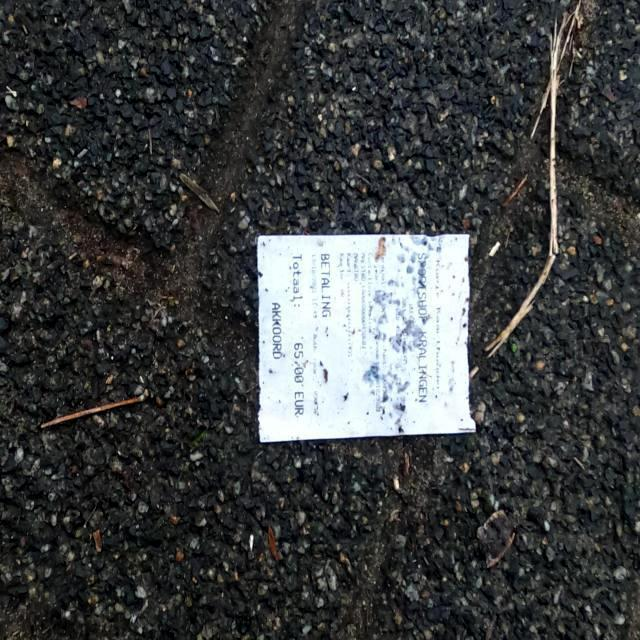Paper: (256, 228, 477, 446)
